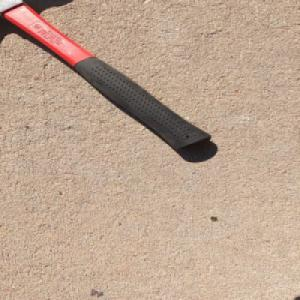Hammer: (0, 0, 215, 152)
